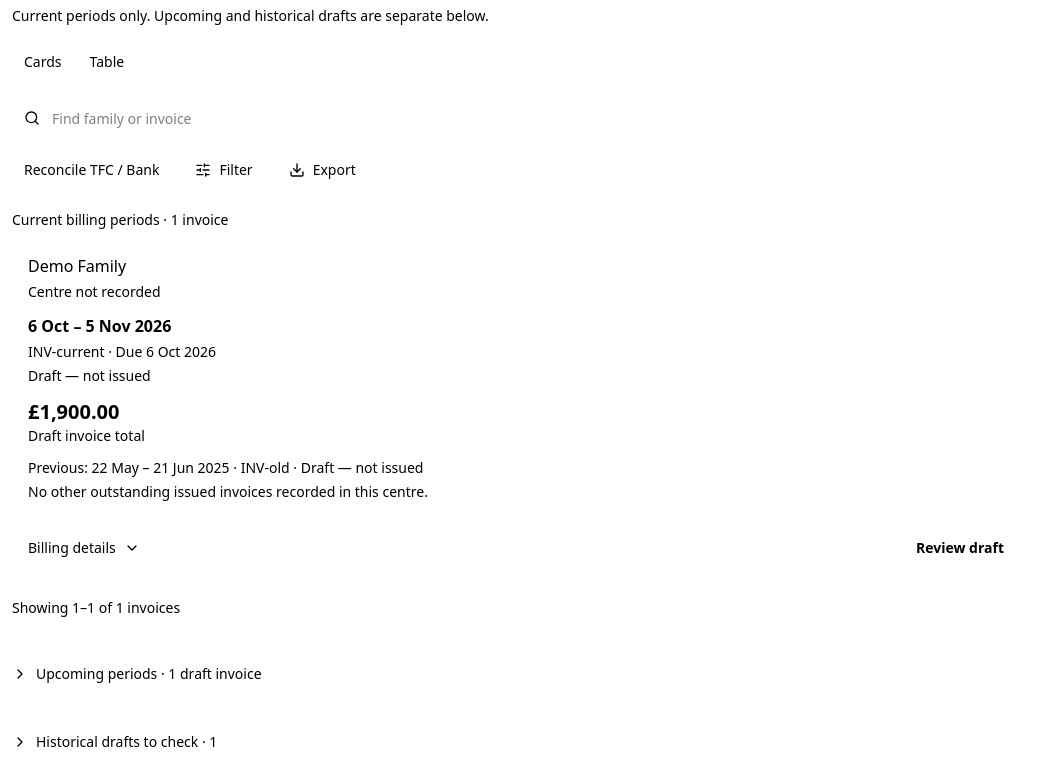
Test: daily finance workflow › keeps historical and upcoming drafts out of the current work count without deleting them
The width and height of the screenshot is (1048, 766).
(page scrolled)
Expected: the button with aria-label "Review invoice INV-current" is shown, [900,526,1020,570]
Click the heading "Historical drafts to check · 1". click: {"x": 115, "y": 742}
box: [12,732,217,751]
(page scrolled)
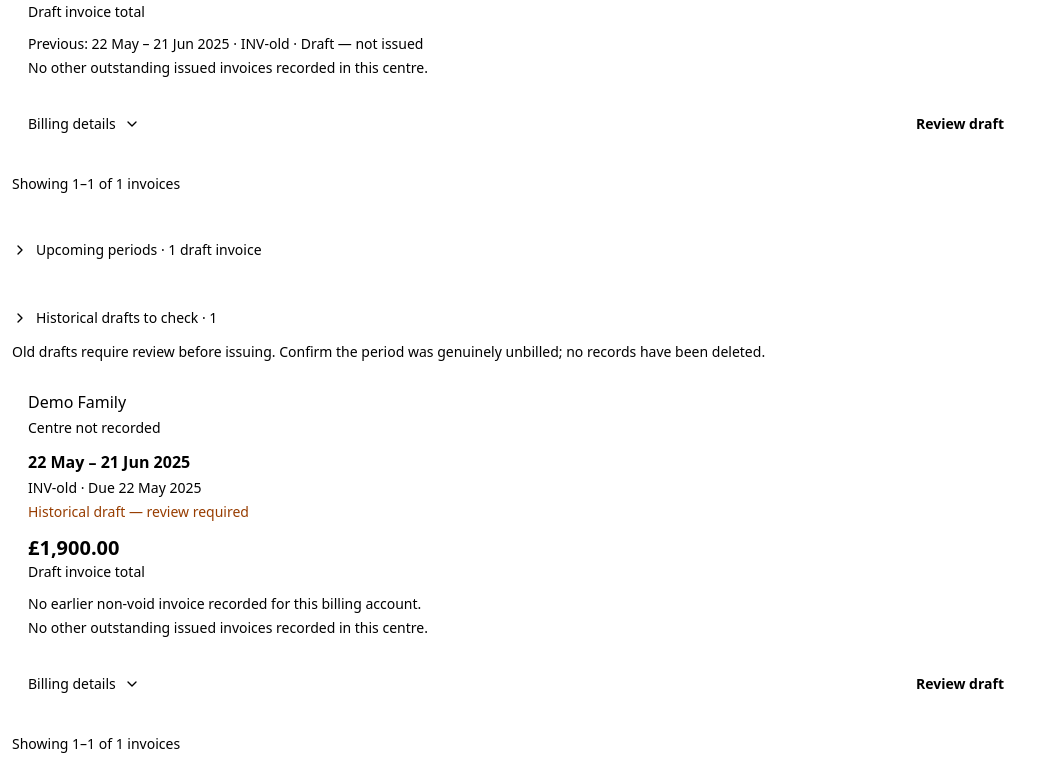
Now the button with aria-label "Review invoice INV-old" is shown, box [900,662,1020,706]
